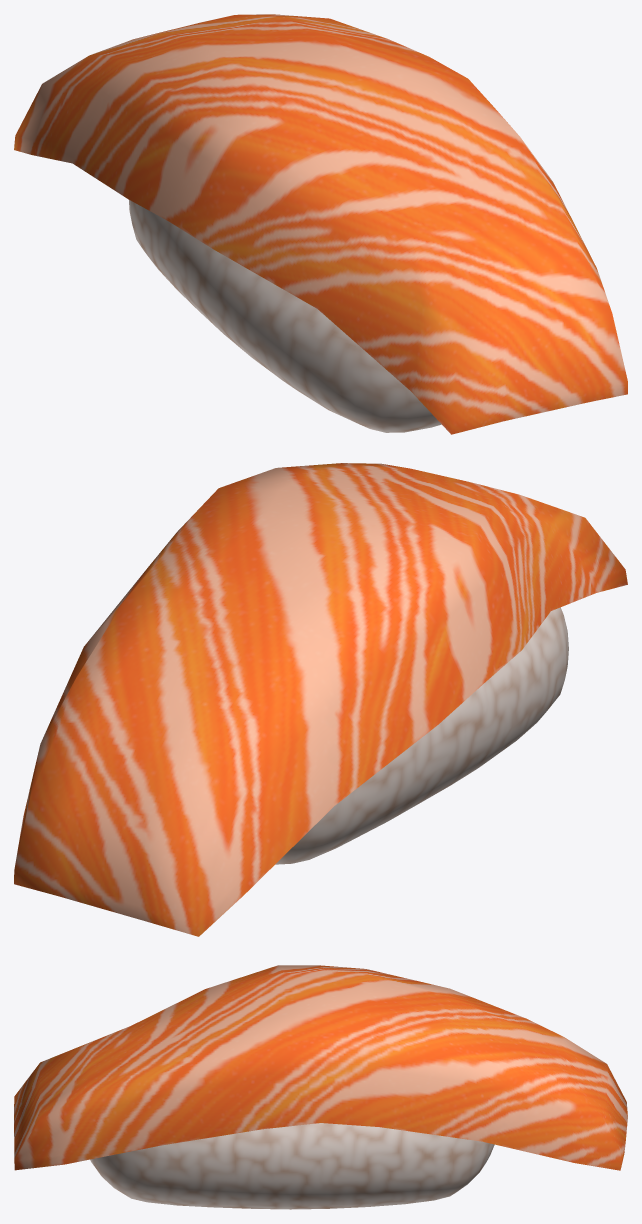
Rendered from sushisushi.fbx.
The picture shows the model from 3 angles, top to bottom: view 1: azimuth 30°, elevation 25°; view 2: azimuth 150°, elevation 25°; view 3: azimuth 270°, elevation 25°; orthographic projection. The views are drawn at different scales.
Parts seen in each view (by area): view 1: SOMON, PİRİNÇ; view 2: SOMON, PİRİNÇ; view 3: SOMON, PİRİNÇ.
Part boxes in pixels (x1,y1,x2,y2): SOMON: [14, 14, 627, 434]; PİRİNÇ: [129, 200, 441, 432]; SOMON: [14, 463, 627, 936]; PİRİNÇ: [275, 607, 568, 864]; SOMON: [14, 965, 627, 1170]; PİRİNÇ: [90, 1123, 494, 1209].
Bounding box in the file's own units: 168 × 140 × 396.
